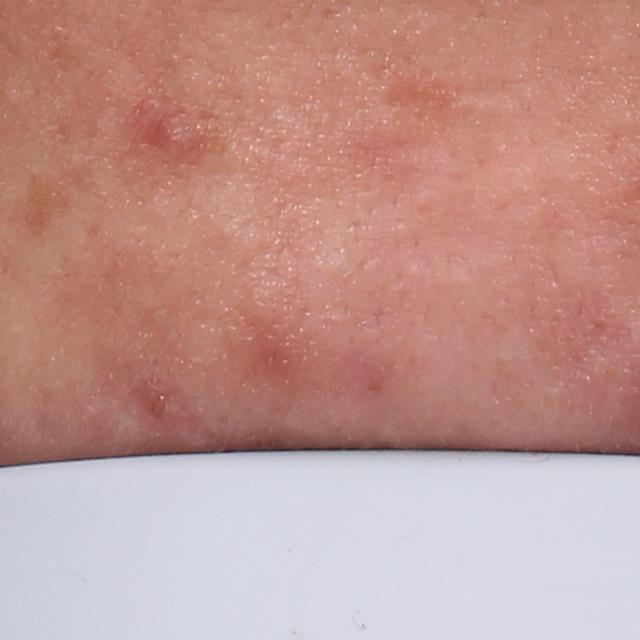papule: (148, 109, 199, 158)
